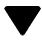dialog_hint: (3, 4, 42, 37)
